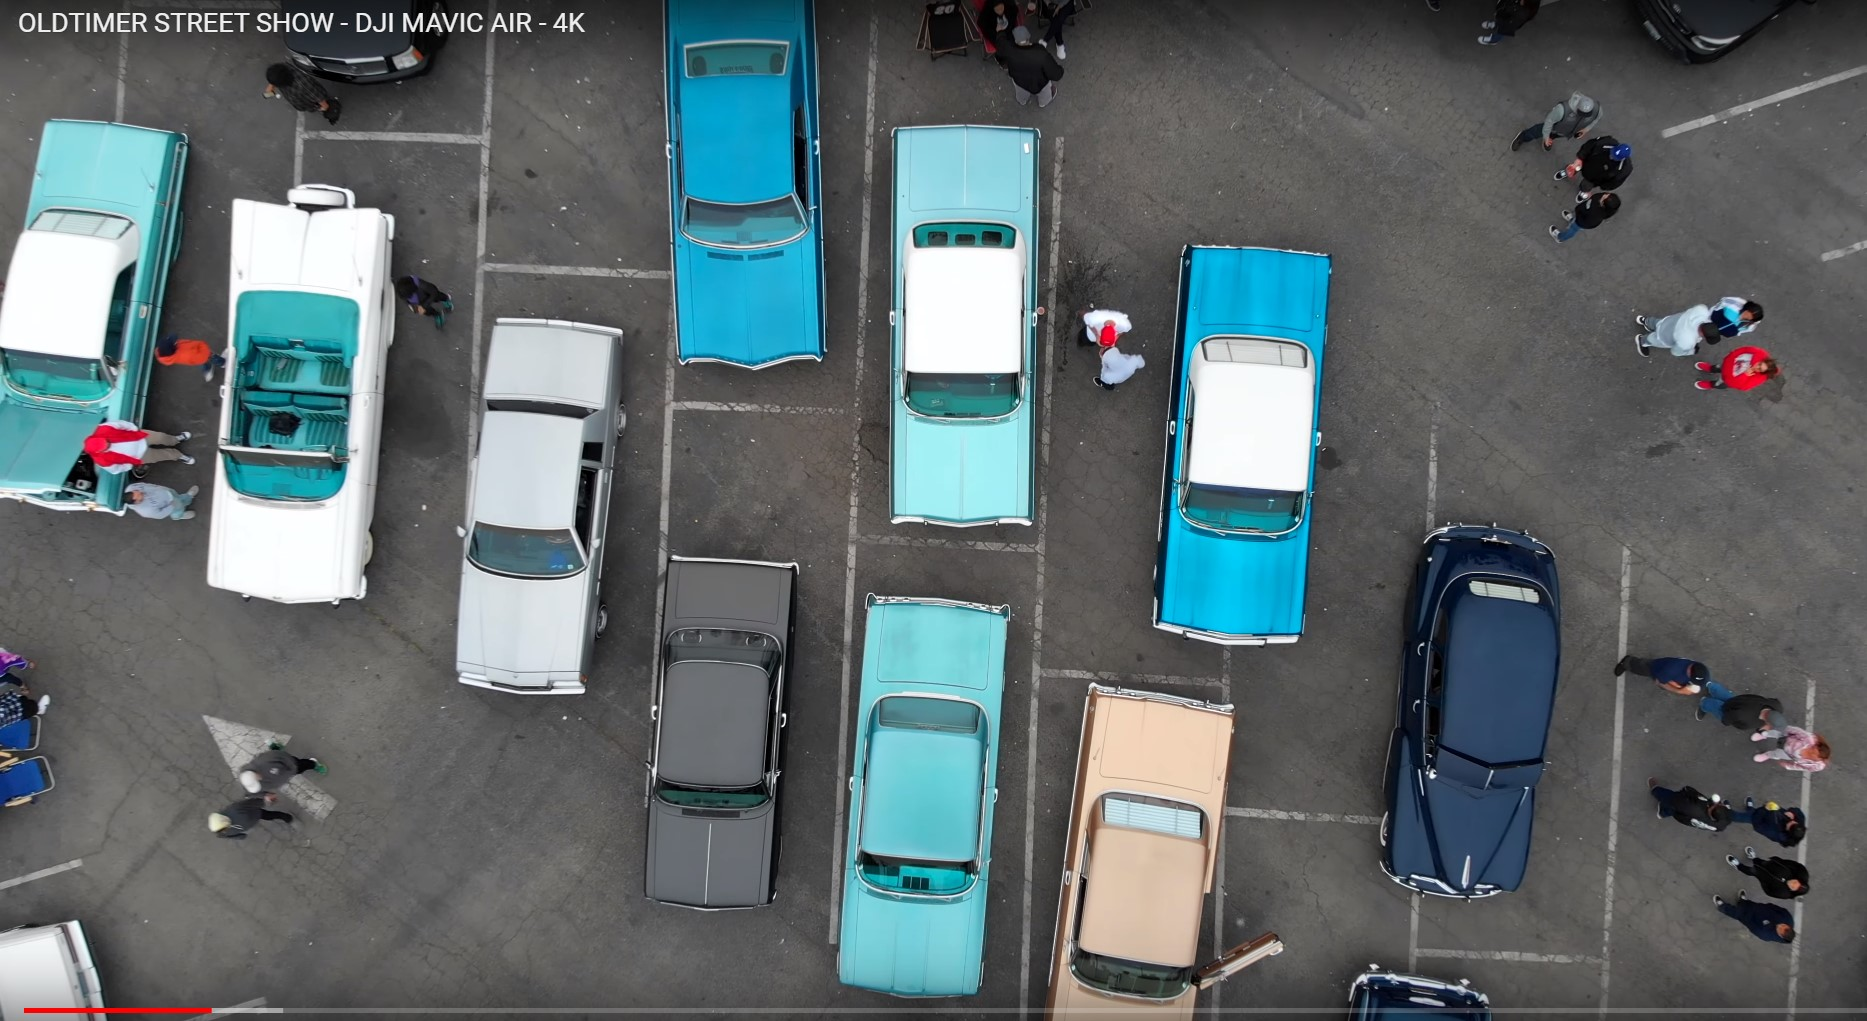araba: (1148, 204, 1334, 662), (204, 184, 395, 613), (1372, 498, 1565, 911), (826, 588, 1022, 996), (1, 106, 185, 514), (1043, 657, 1246, 1021), (453, 315, 628, 704), (664, 1, 834, 376), (886, 115, 1038, 531), (641, 547, 797, 898)
insan: (65, 415, 204, 472), (986, 20, 1065, 115), (1628, 288, 1720, 366), (1508, 83, 1602, 158), (1532, 174, 1630, 246), (1605, 635, 1716, 695), (1646, 772, 1741, 835), (195, 796, 294, 855), (1715, 843, 1816, 900), (1690, 339, 1782, 402), (228, 736, 319, 799), (1712, 885, 1798, 952), (1695, 678, 1797, 733), (1549, 131, 1641, 191), (1743, 718, 1835, 776), (260, 61, 348, 122), (1739, 788, 1815, 852), (117, 477, 206, 531), (386, 257, 452, 328), (145, 326, 232, 377), (1704, 288, 1763, 340), (1093, 339, 1146, 392), (1080, 306, 1137, 347)
